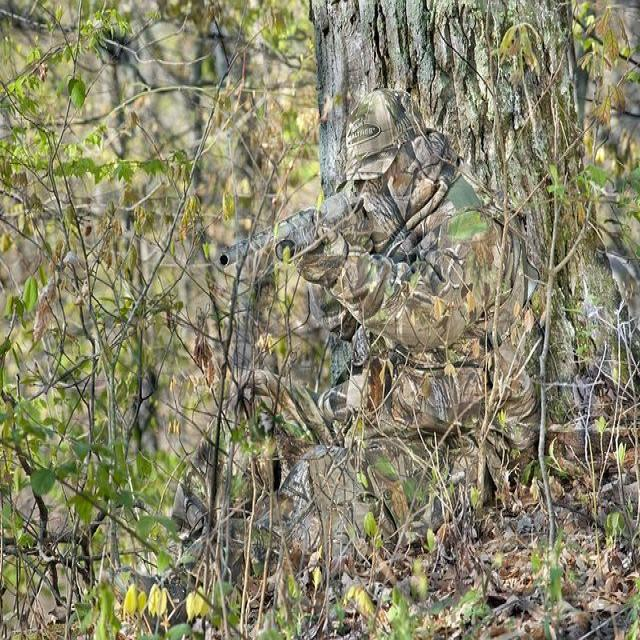Human: (173, 90, 576, 594)
